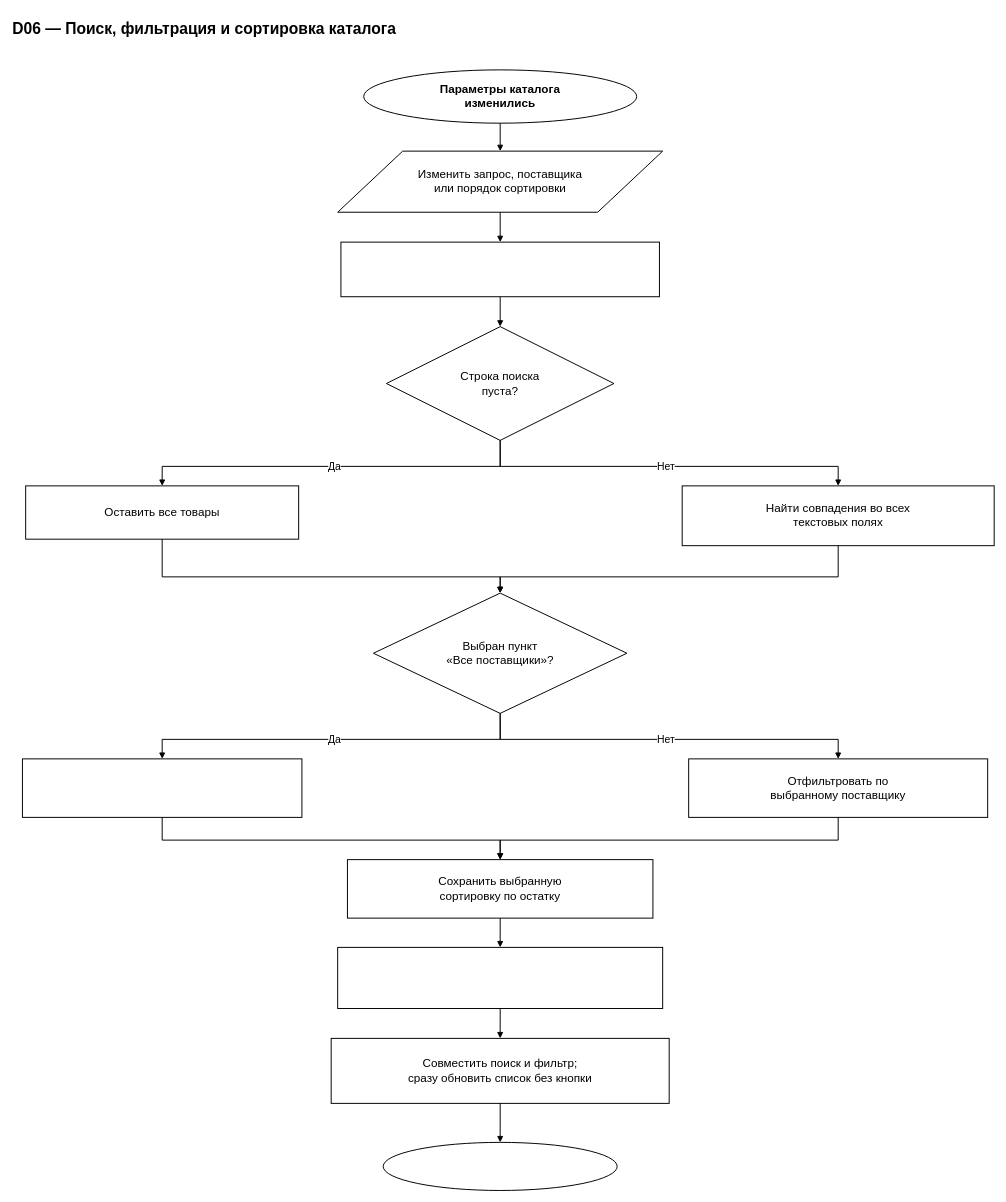
The diagram is 1006 pixels wide and 1202 high, and some of its shapes have lost their labels. Here are the shapes that lost their labels. From the top down, the centre of each, then its label:
At point (500, 269): "Получить полный список товаров".
At point (162, 788): "Не применять фильтр поставщика".
At point (500, 978): "Отсортировать по остатку: по возрастанию или убыванию".
At point (499, 1166): "Каталог обновлён".
